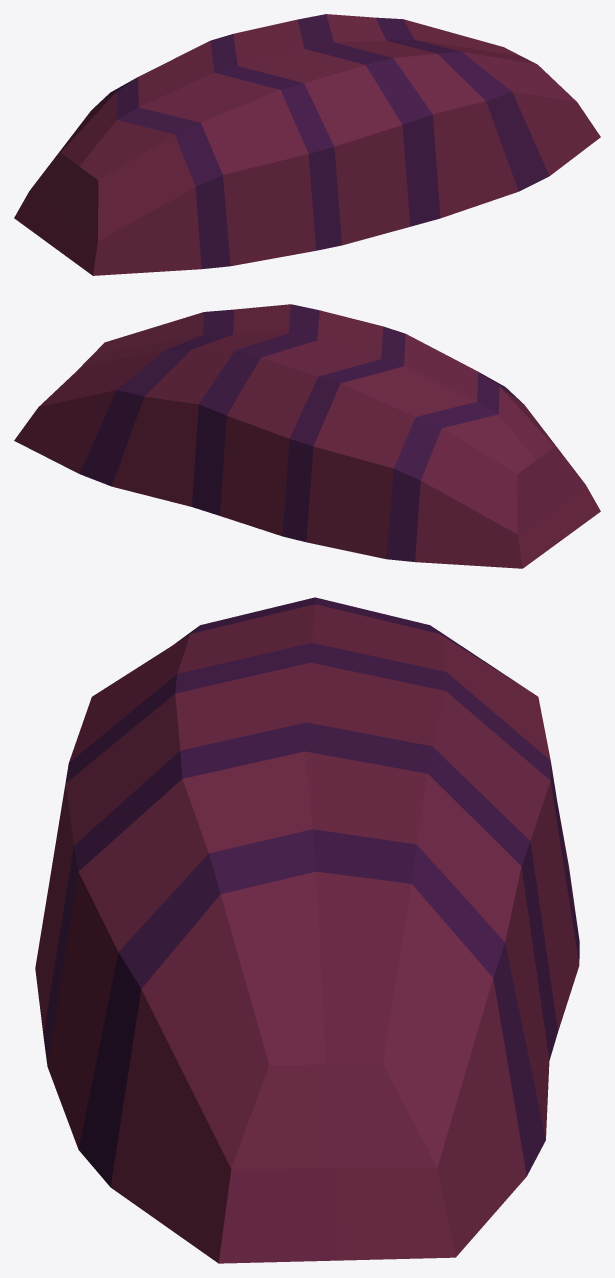
File: Sashimi_Salmon2.obj
3 renders of one model, top to bottom at view 1: azimuth 30°, elevation 25°; view 2: azimuth 150°, elevation 25°; view 3: azimuth 270°, elevation 25°, orthographic. The views are drawn at different scales.
Visible parts, largest first — view 1: Salmon2_Cube.016; view 2: Salmon2_Cube.016; view 3: Salmon2_Cube.016.
Boxes of the visible parts, bbox=[...] form: Salmon2_Cube.016: bbox=[14, 14, 600, 275]; Salmon2_Cube.016: bbox=[14, 304, 600, 568]; Salmon2_Cube.016: bbox=[35, 597, 579, 1263].
Size of the model in its own units: 0.5976 by 0.1518 by 0.2716.
